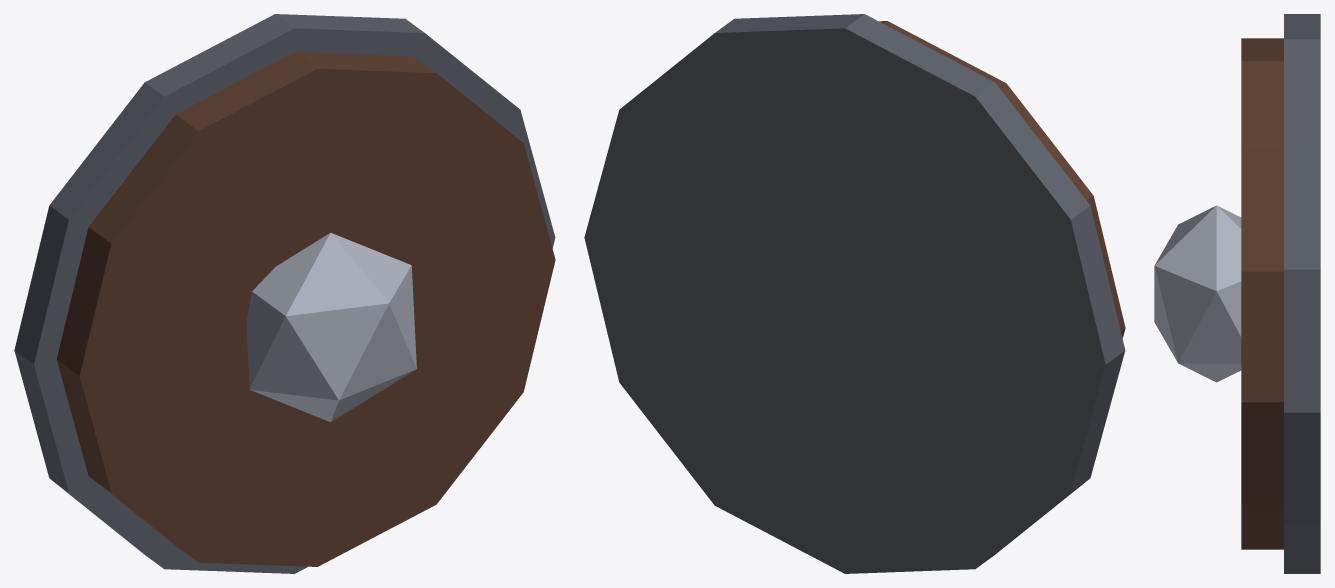
File: Buckler.fbx
The picture shows the model from 3 angles, left to right: view 1: azimuth 30°, elevation 25°; view 2: azimuth 150°, elevation 25°; view 3: azimuth 270°, elevation 25°; orthographic projection. The views are drawn at different scales.
Parts seen in each view (by area): view 1: Buckler__hand_L; view 2: Buckler__hand_L; view 3: Buckler__hand_L.
Part boxes in pixels (x1,y1,x2,y2): Buckler__hand_L: (14, 14, 555, 573); Buckler__hand_L: (584, 14, 1125, 573); Buckler__hand_L: (1154, 14, 1320, 573).
Bounding box in the file's own units: 0.46 × 0.46 × 0.136.
